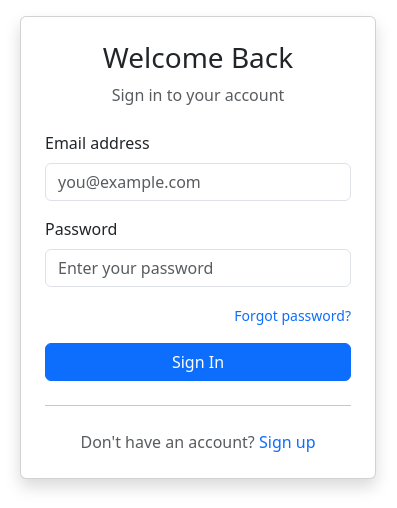
it: LoginPage › should show loading state when submitting
This screenshot has width=397, height=508.
Type "test@example.com" into the field labelled "Email address" at {"x": 198, "y": 182}, box [45,163,351,201]
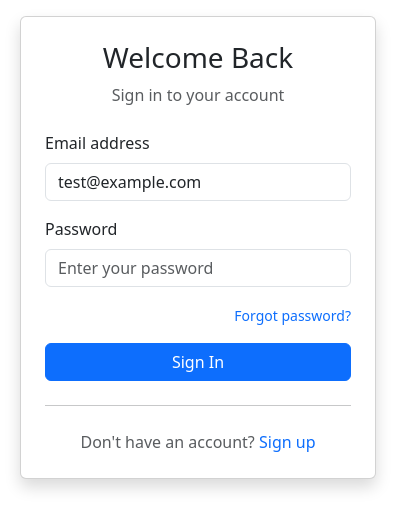
Type "password123" into the password field labelled "Password" at {"x": 198, "y": 268}, box [45,249,351,287]
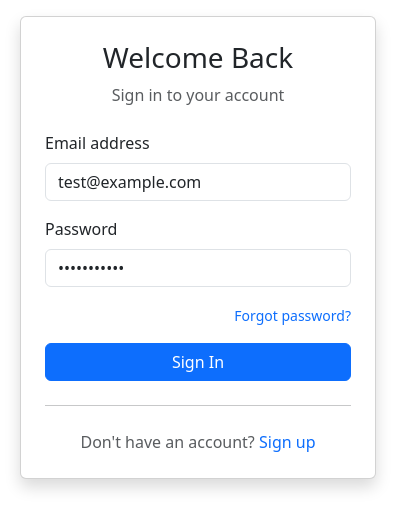
Click the button "Sign In" at {"x": 198, "y": 362}, box [45,343,351,381]
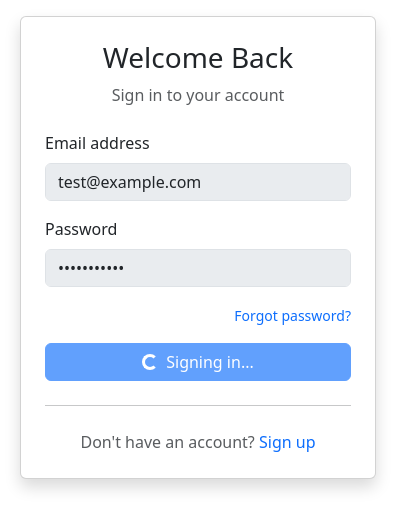
Expected: the button "Signing in..." is disabled, [45,343,351,381]
Expected: the message is shown, [142,354,158,370]
